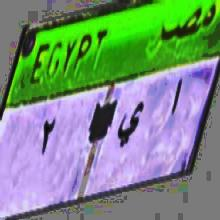2: (38, 108, 57, 161)
alif: (166, 74, 184, 121)
yaa: (116, 98, 144, 153)
